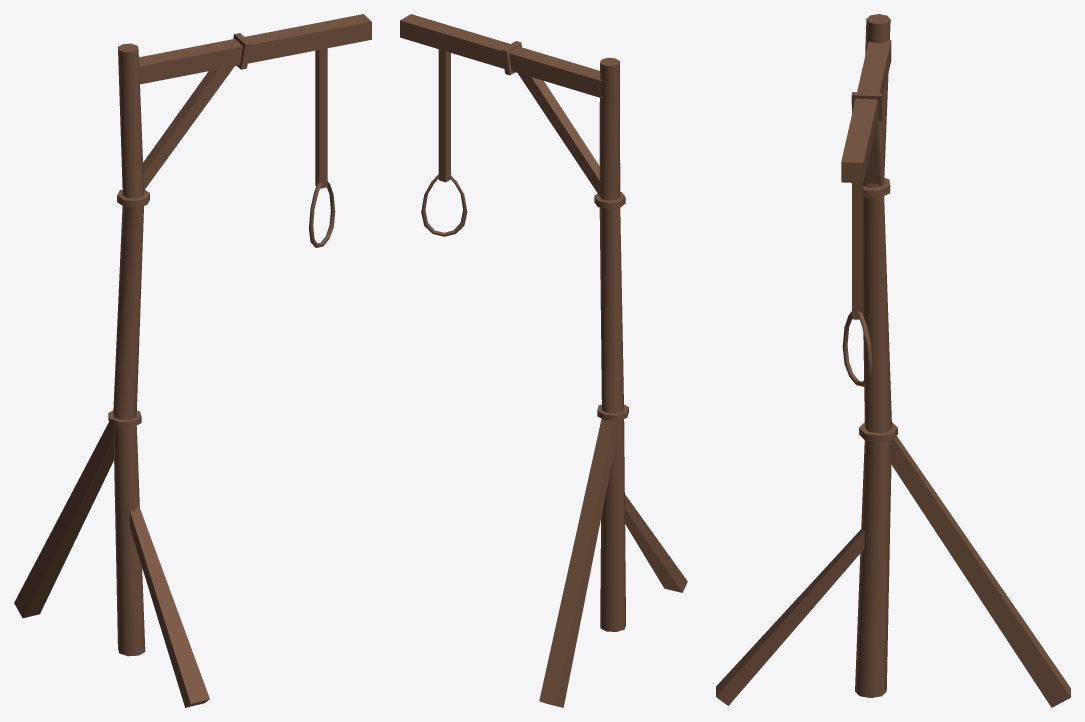
The model's file is Potence_01.fbx.
3 renders of one model, left to right at view 1: azimuth 30°, elevation 25°; view 2: azimuth 150°, elevation 25°; view 3: azimuth 270°, elevation 25°, orthographic. The views are drawn at different scales.
Visible parts, largest first — view 1: Potence; view 2: Potence; view 3: Potence.
Boxes of the visible parts, x1,y1,x2,y2 form: Potence: (14, 14, 371, 707); Potence: (400, 14, 687, 707); Potence: (716, 14, 1070, 707).
Bounding box in the file's own units: 224 × 517 × 239.
